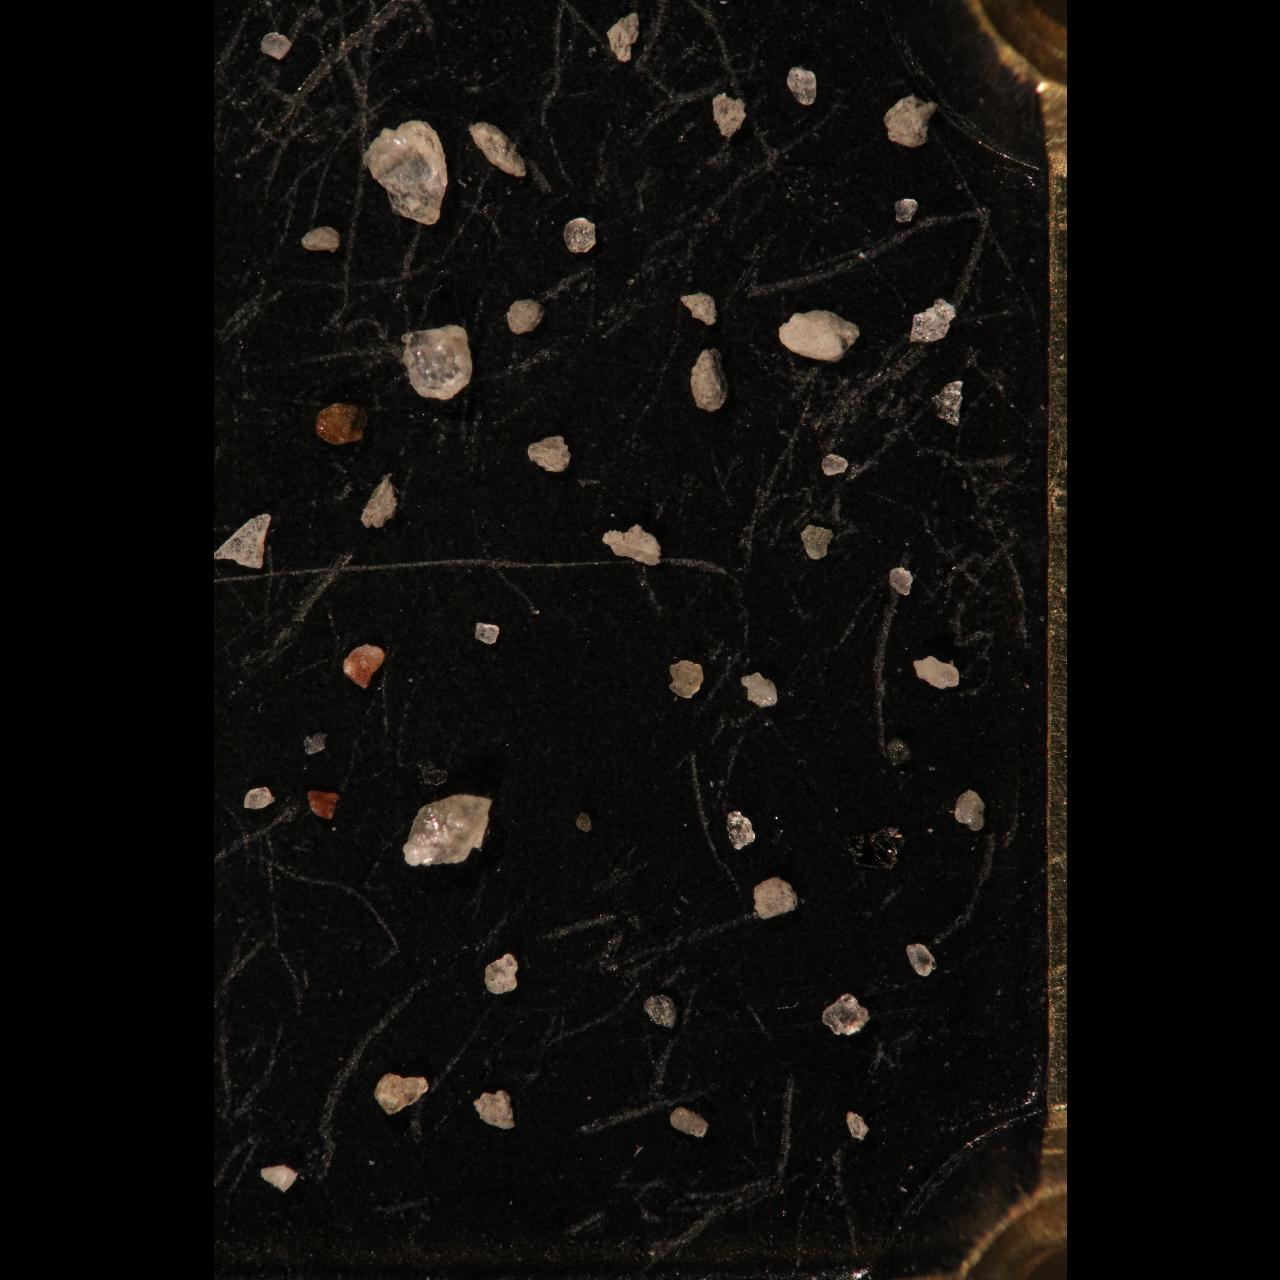Sediment: (361, 118, 449, 227), (400, 792, 493, 867), (401, 324, 474, 402), (777, 307, 860, 365), (467, 118, 527, 179), (215, 511, 272, 571), (885, 94, 937, 149), (689, 346, 729, 411), (602, 524, 661, 568), (373, 1071, 429, 1117), (359, 471, 402, 529), (314, 400, 366, 447), (819, 993, 871, 1037), (908, 298, 958, 343), (753, 876, 798, 920), (341, 642, 384, 689), (911, 653, 961, 693), (472, 1087, 516, 1131), (604, 11, 640, 63), (526, 434, 572, 475), (928, 379, 964, 429), (710, 91, 745, 141), (667, 656, 704, 701), (482, 952, 518, 996), (952, 788, 987, 832), (740, 670, 778, 709), (676, 292, 717, 328), (668, 1104, 709, 1141), (506, 297, 544, 335), (798, 522, 835, 561), (726, 806, 755, 853), (785, 64, 817, 108), (641, 992, 676, 1030), (563, 217, 597, 256), (304, 787, 340, 822), (904, 941, 938, 979), (300, 224, 340, 254), (258, 1163, 298, 1191), (259, 29, 292, 61), (843, 1107, 870, 1141), (241, 785, 275, 811), (891, 195, 919, 225), (818, 450, 847, 478), (887, 566, 913, 598), (299, 729, 327, 757), (474, 620, 501, 646)
